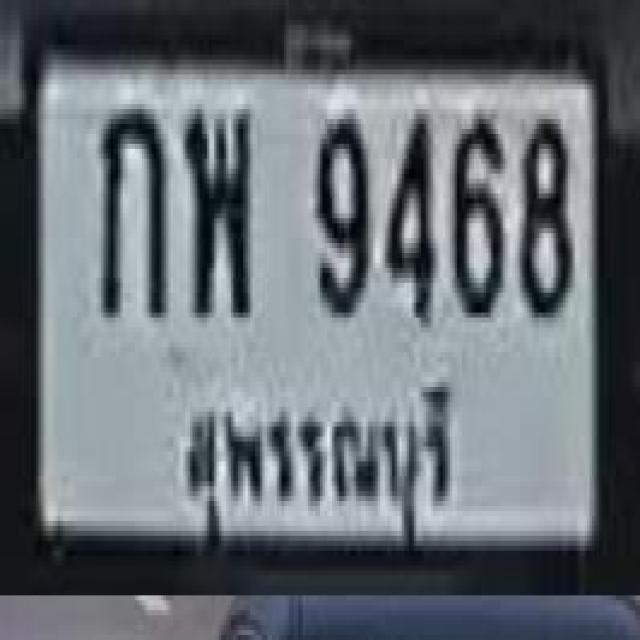license_plate: (16, 7, 622, 584)
